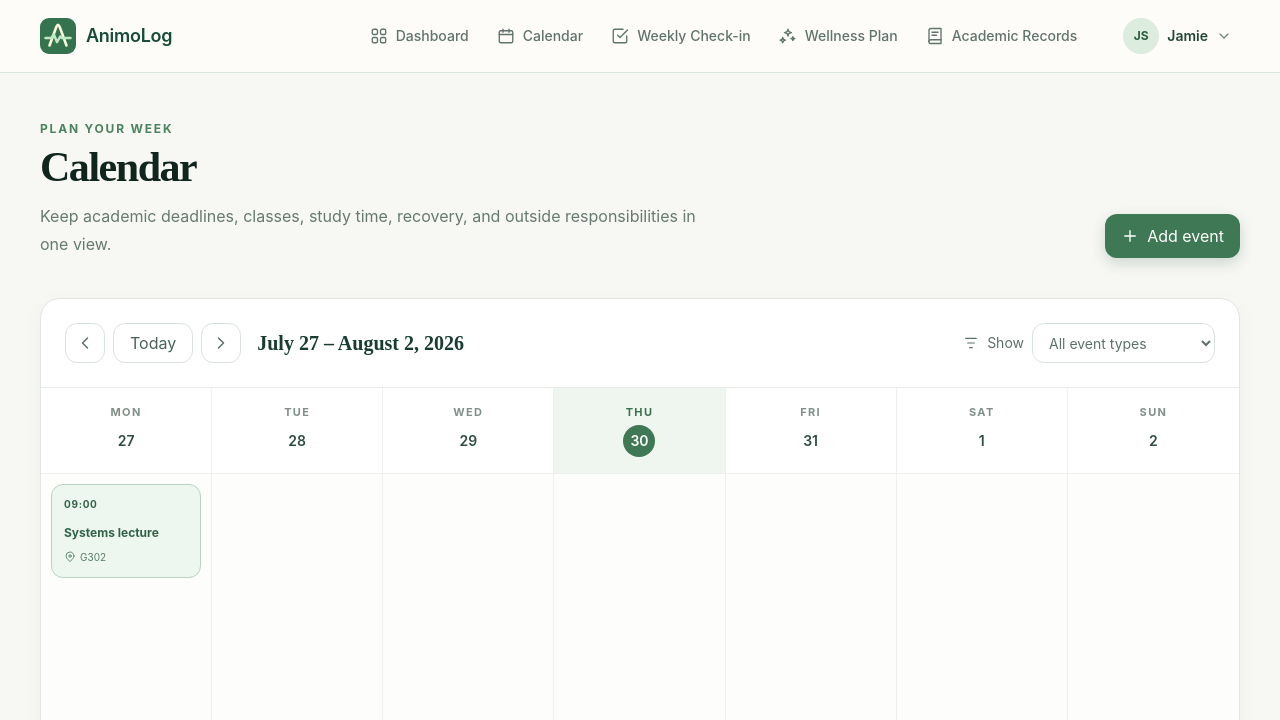
it: Calendar page › creates an all-day event using only backend-supported fields
This screenshot has width=1280, height=720.
Click the button "Add event": {"x": 1173, "y": 236} [1105,214,1240,258]
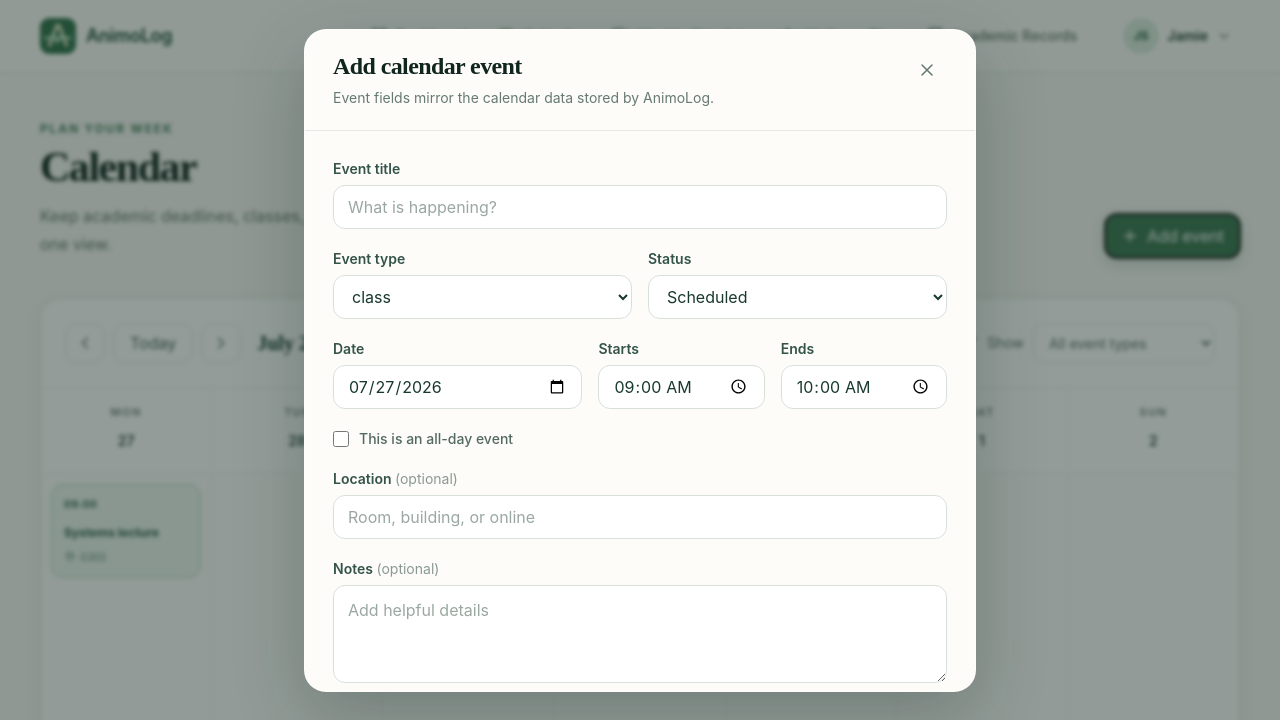
In the field labelled "Event title": {"x": 640, "y": 206} [333,184,947,228], type "Study day"
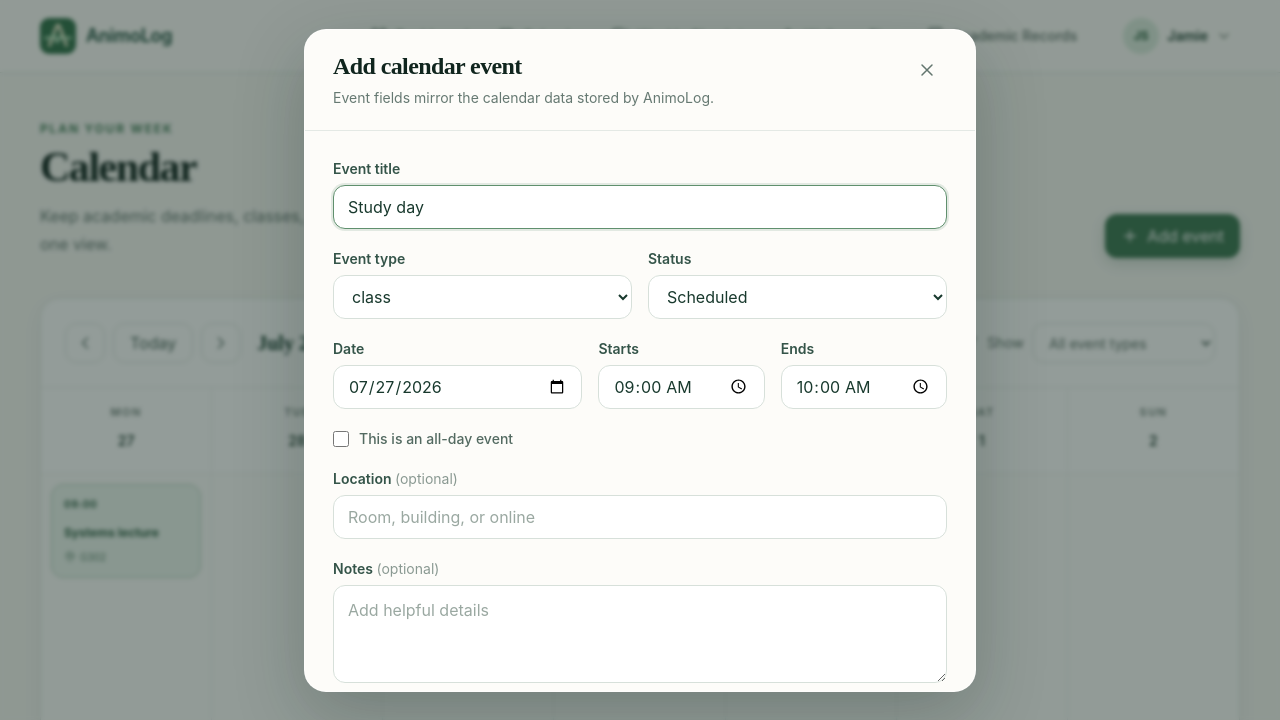
Click the checkbox labelled "This is an all-day event": {"x": 341, "y": 438} [333,430,349,446]
(page scrolled)
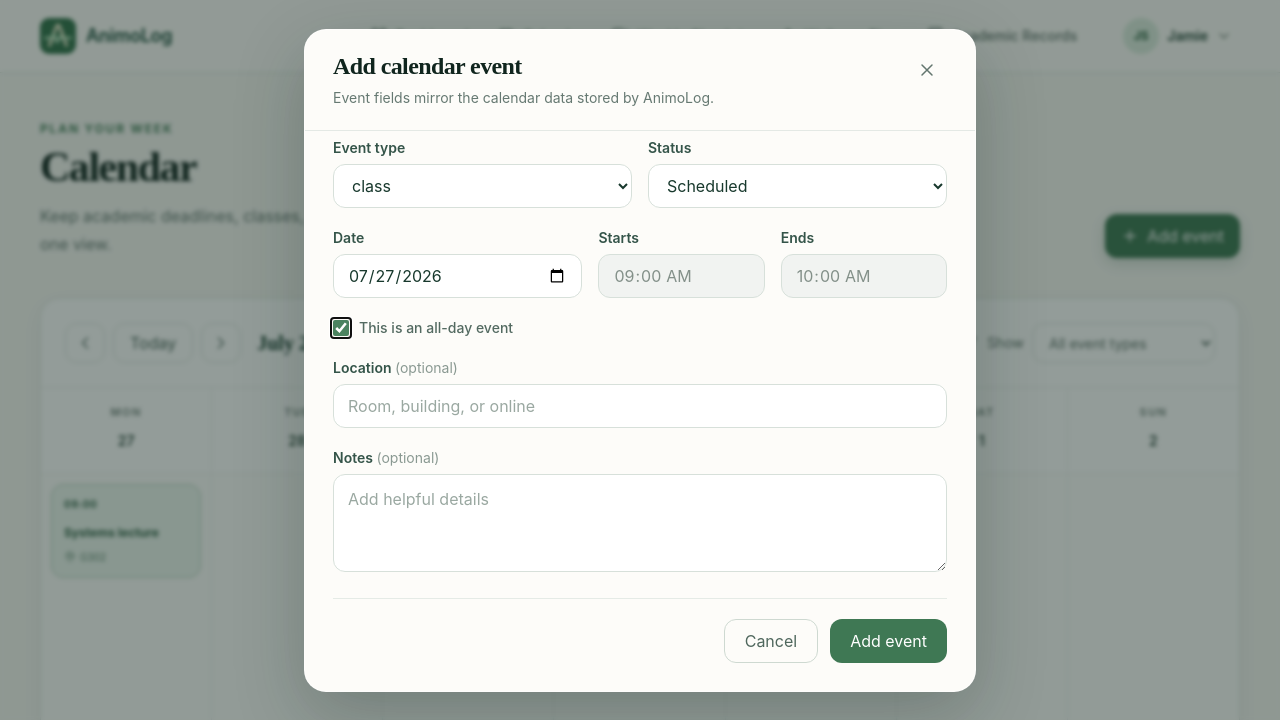
Click the button "Add event": {"x": 889, "y": 640} [830,618,947,662]
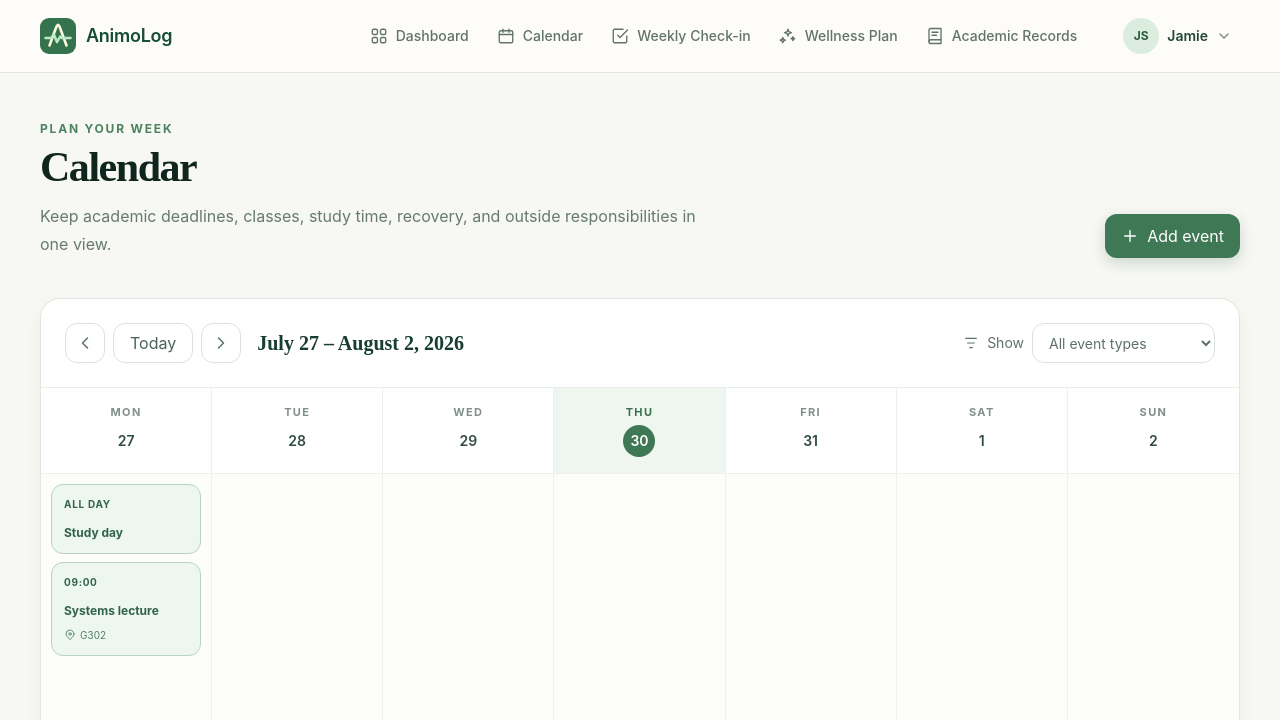
Expected: the heading "Study day" is shown, [64,525,123,540]
